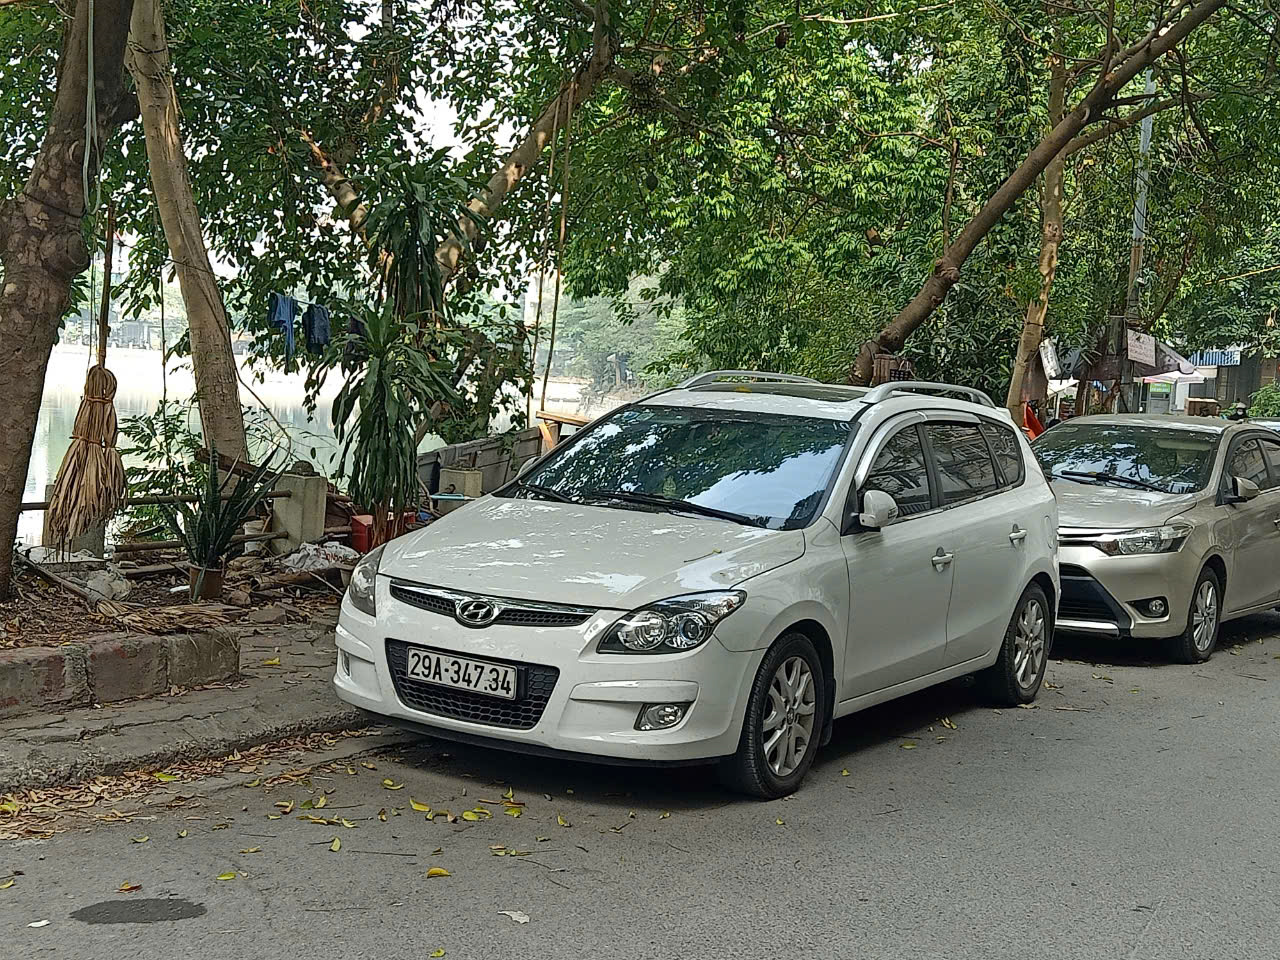bien_so: (406, 646, 516, 699)
